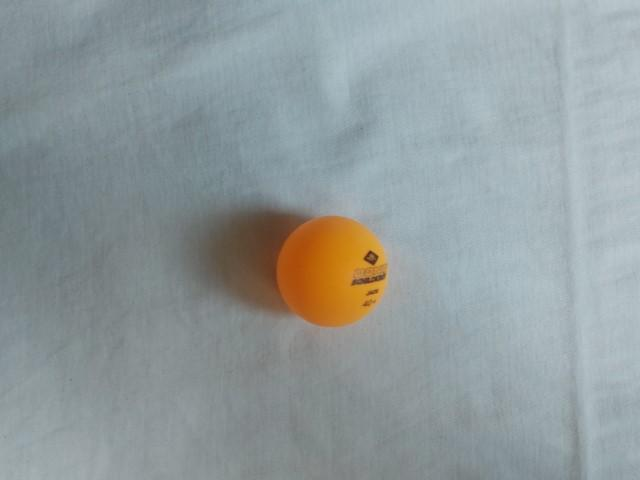oball: (270, 212, 396, 333)
